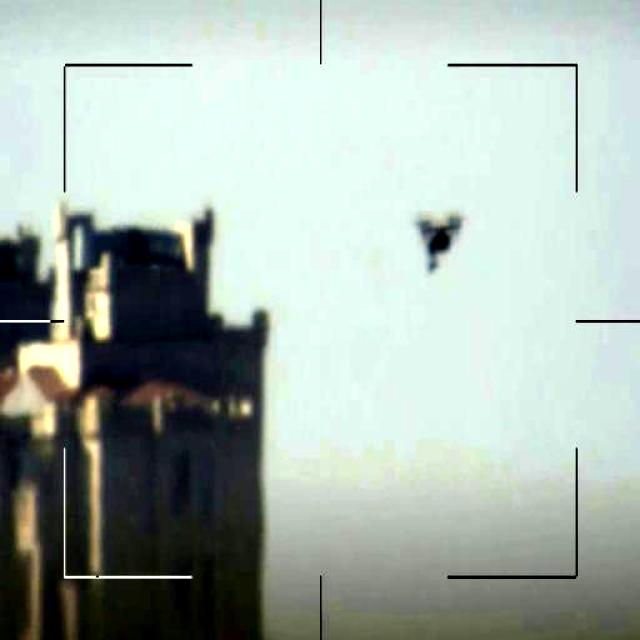bird: (409, 211, 470, 272)
